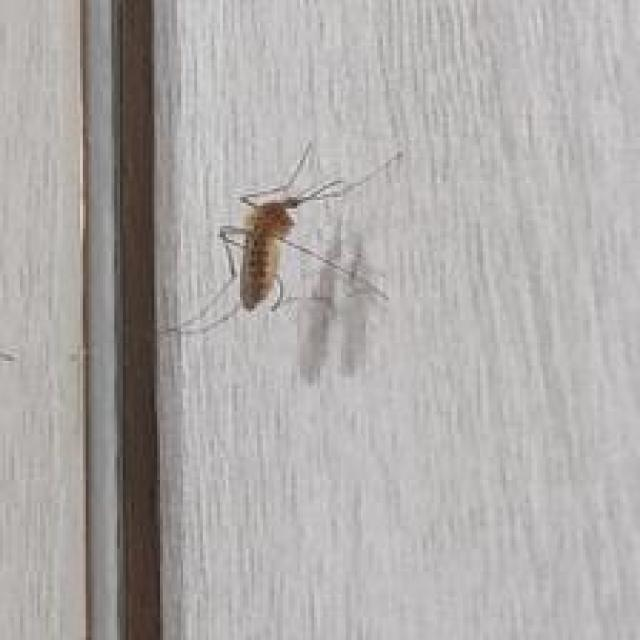Culex: (160, 138, 403, 338)
